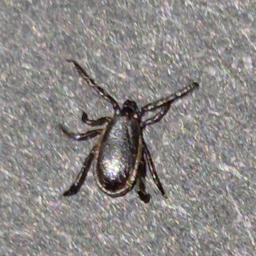Ixodes scapularis: (60, 60, 198, 200)
